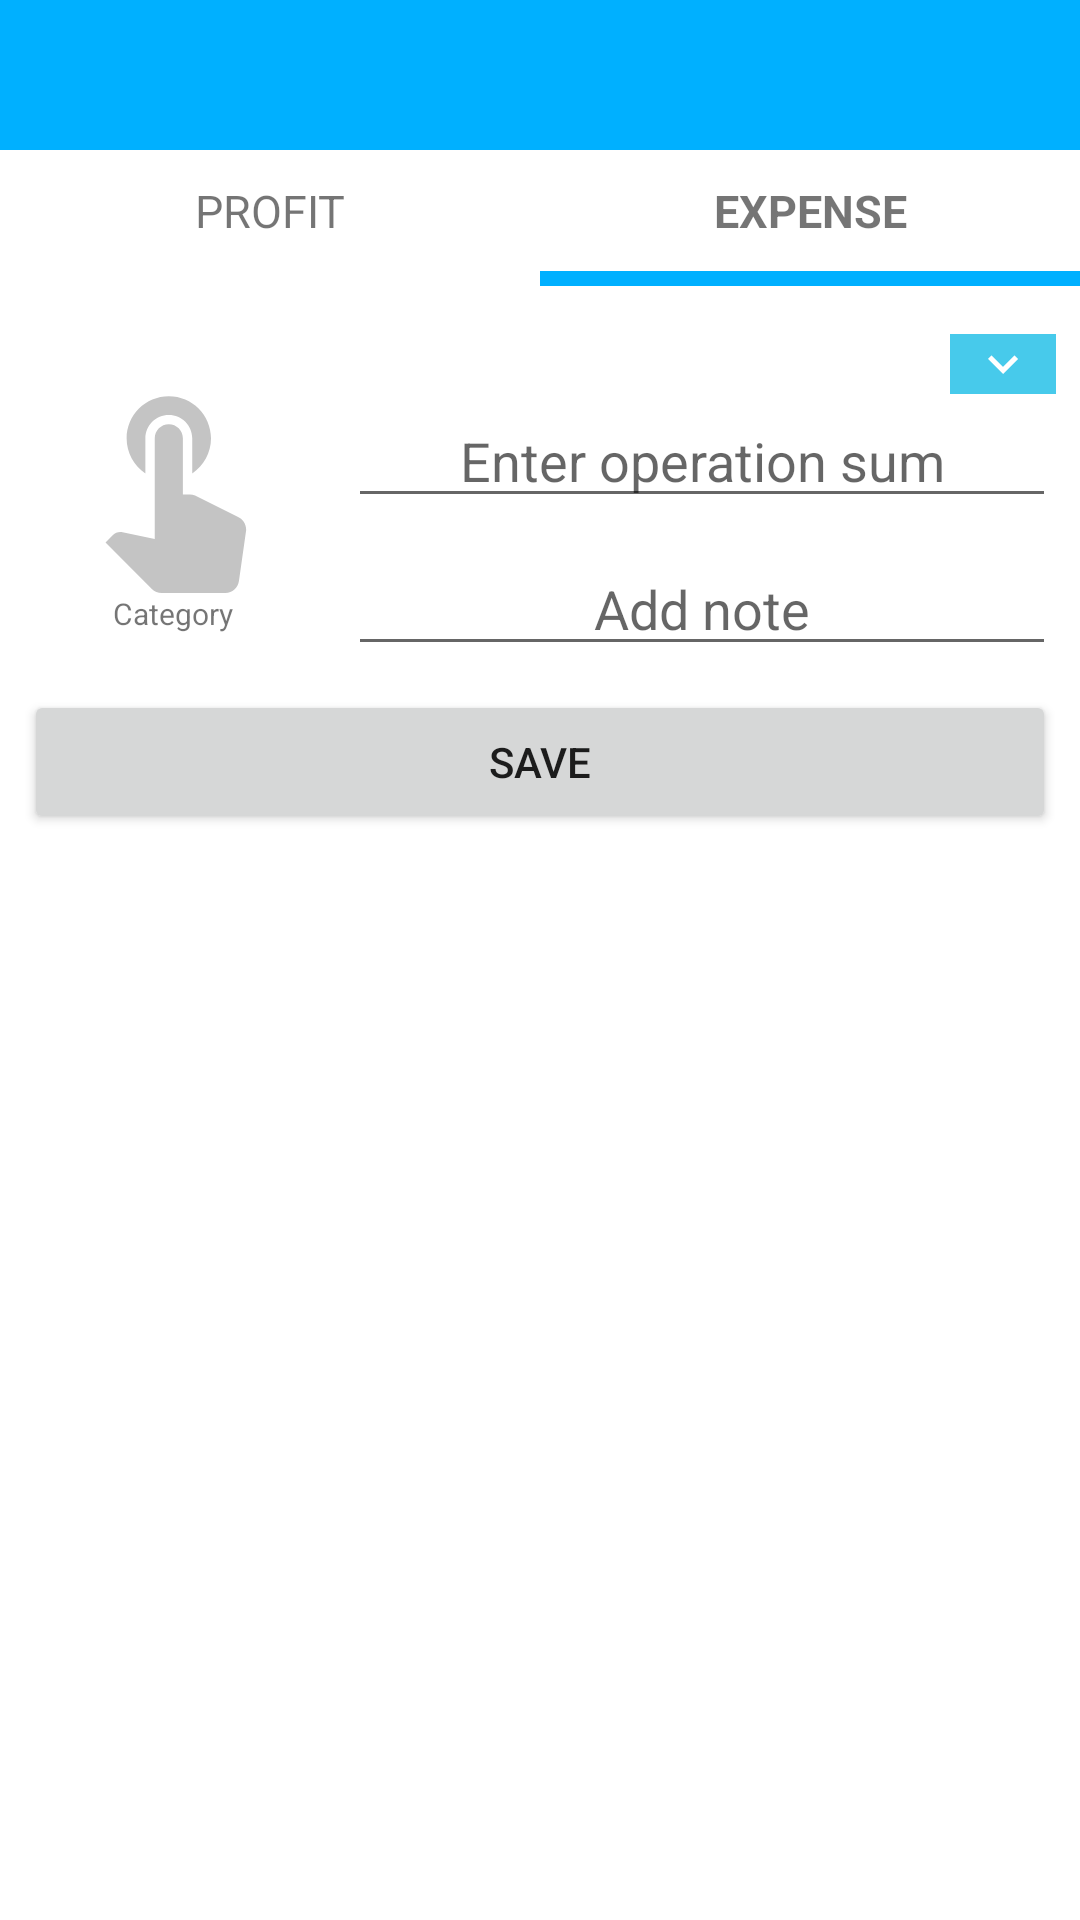

Locate icon controls on the screen. Image size 1080 x 1920, boxes as (x1, y1, x2, y2).
arrow down: (950, 334, 1056, 394)
touch app: (106, 396, 246, 593)
